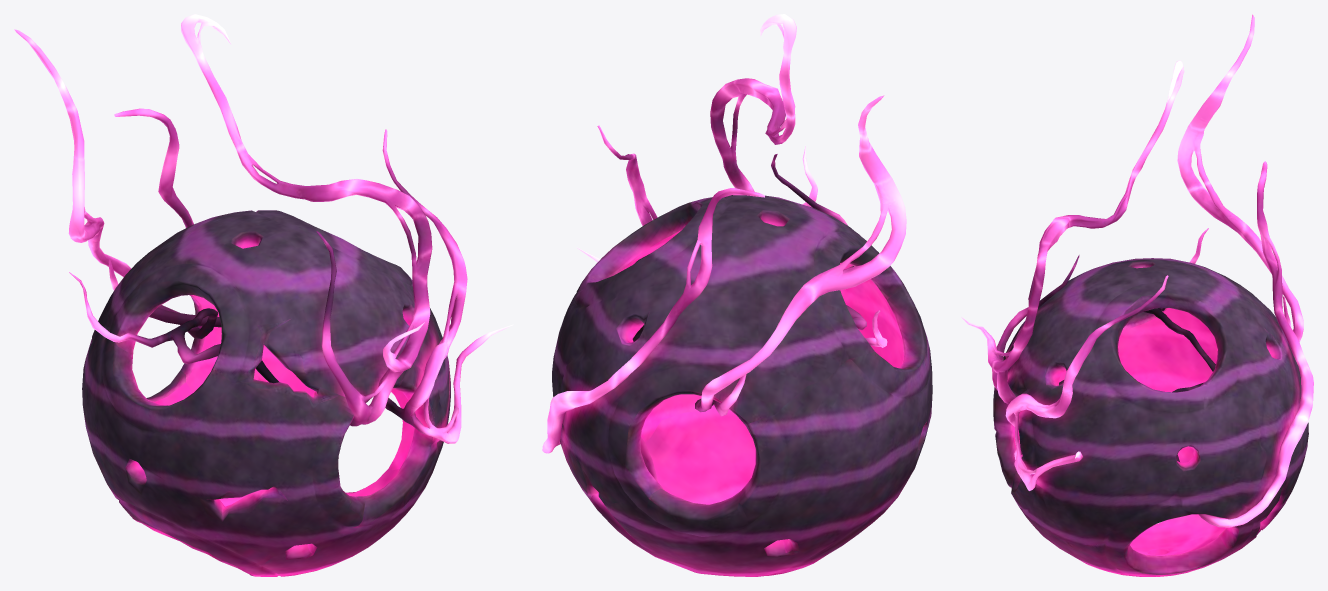
The model's file is sky_decor_pot_chaos_v35.glb.
3 views of the same model, side by side, from view 1: azimuth 30°, elevation 25°; view 2: azimuth 150°, elevation 25°; view 3: azimuth 270°, elevation 25° (orthographic). The views are drawn at different scales.
Parts seen in each view (by area): view 1: caos_drs_chaospot_01b; view 2: caos_drs_chaospot_01b; view 3: caos_drs_chaospot_01b.
Part boxes in pixels (x1,y1,x2,y2): caos_drs_chaospot_01b: (14, 14, 513, 576); caos_drs_chaospot_01b: (542, 14, 932, 576); caos_drs_chaospot_01b: (961, 14, 1313, 576).
Size of the model in its own units: 2.53 by 3.33 by 2.24.
Materials: 2 (2 with a texture image).
